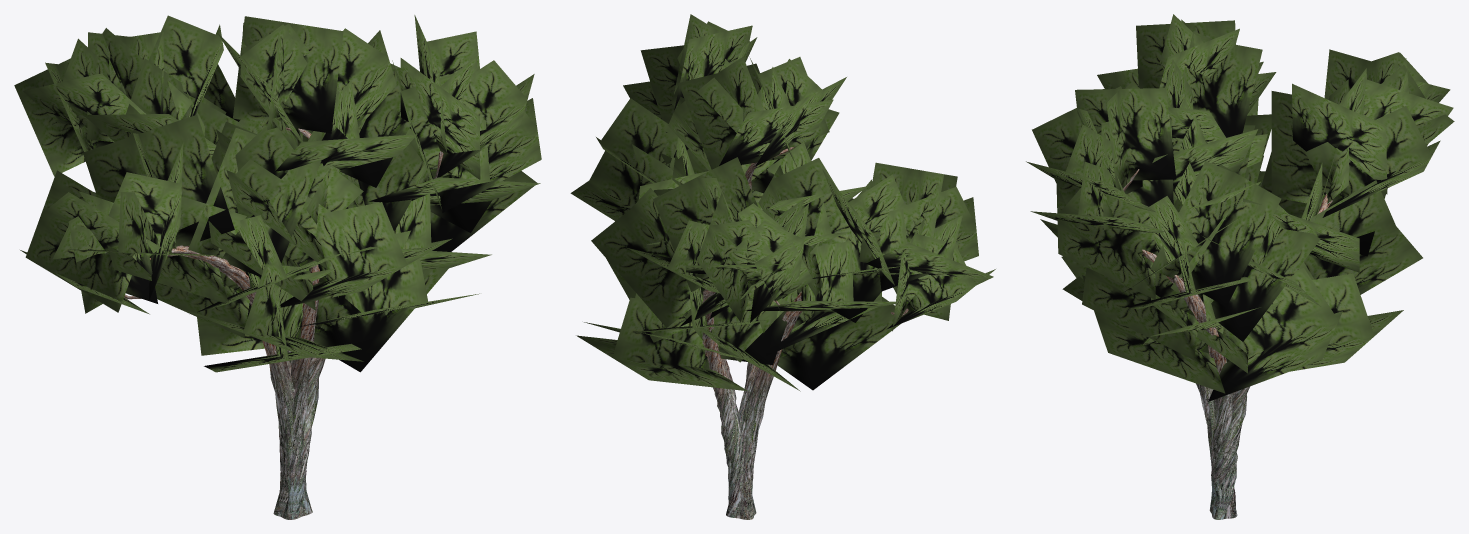
Rendered from SmallTree_02_v2.fbx.
3 renders of one model, left to right at view 1: azimuth 30°, elevation 25°; view 2: azimuth 150°, elevation 25°; view 3: azimuth 270°, elevation 25°, orthographic. The views are drawn at different scales.
Visible parts, largest first — view 1: tree.006; view 2: tree.006; view 3: tree.006.
Boxes of the visible parts, <box> form: tree.006: <box>14,15,541,519</box>; tree.006: <box>570,14,995,519</box>; tree.006: <box>1026,14,1454,519</box>.
Size of the model in its own units: 1413 by 1436 by 1164.
